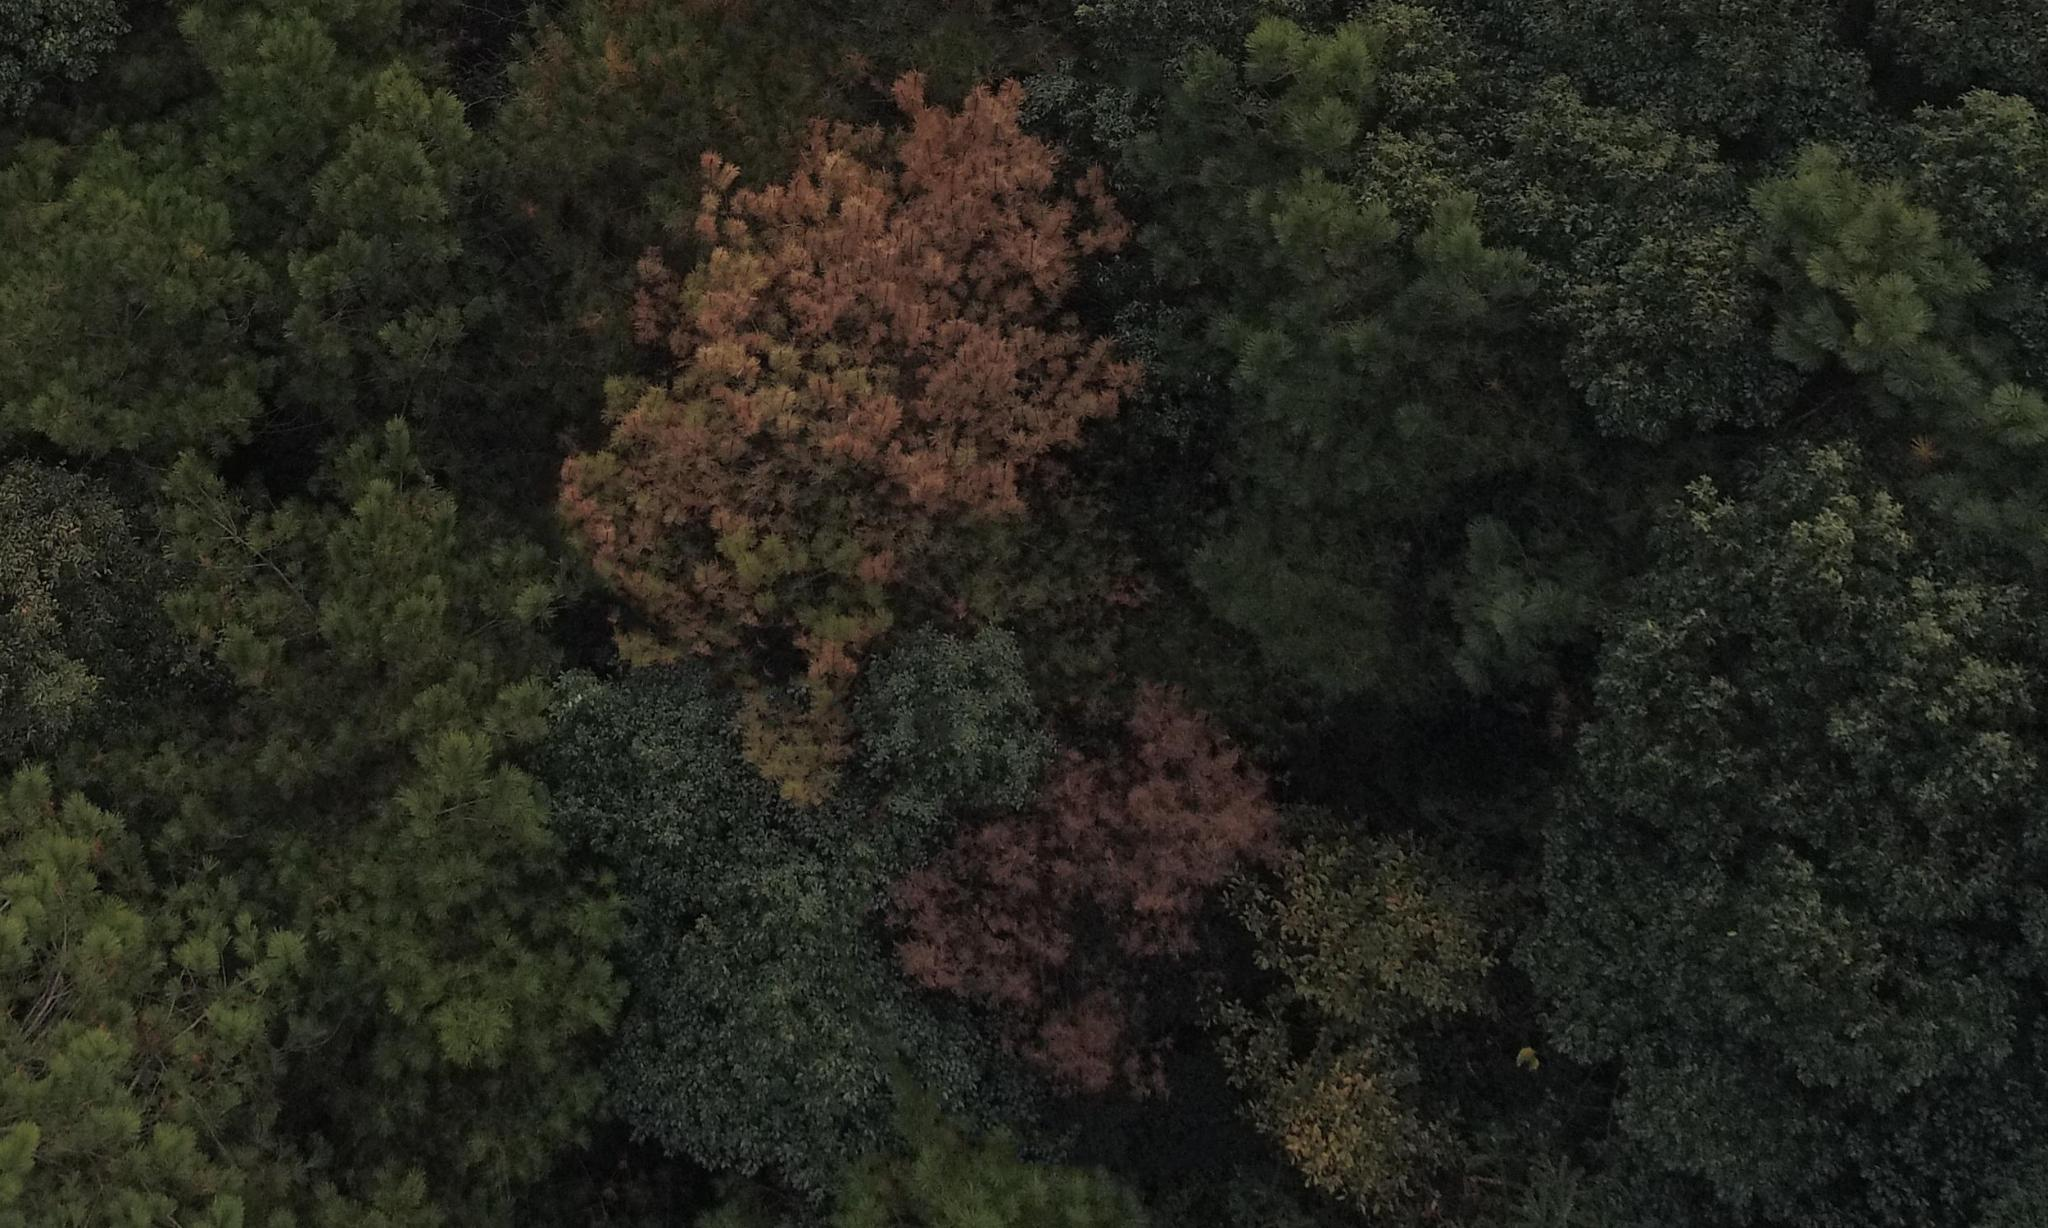heavy: (566, 60, 1115, 634), (871, 670, 1270, 1088)
